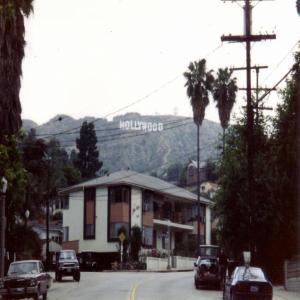Vehicle-registration-plate: (251, 286, 259, 294)
